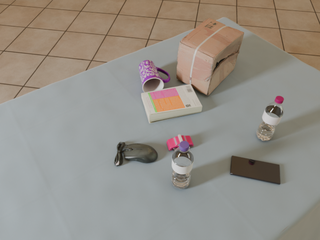book: (141, 84, 202, 123)
bottle: (256, 96, 284, 141), (171, 141, 194, 189)
box: (177, 18, 244, 95)
cup: (139, 60, 170, 92)
mouse: (114, 142, 158, 166)
phone: (230, 156, 280, 184)
toy_car: (167, 134, 193, 151)
